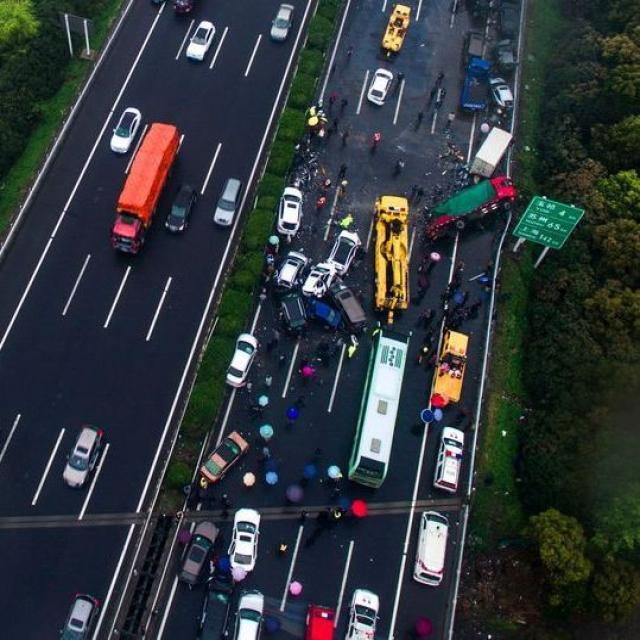traffic_incident: (264, 236, 378, 343), (414, 178, 516, 242), (483, 72, 522, 120), (359, 63, 400, 106)
